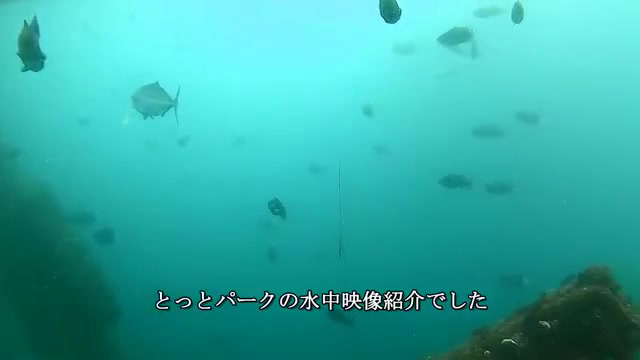smallfish: (116, 81, 194, 136), (434, 171, 470, 192)
